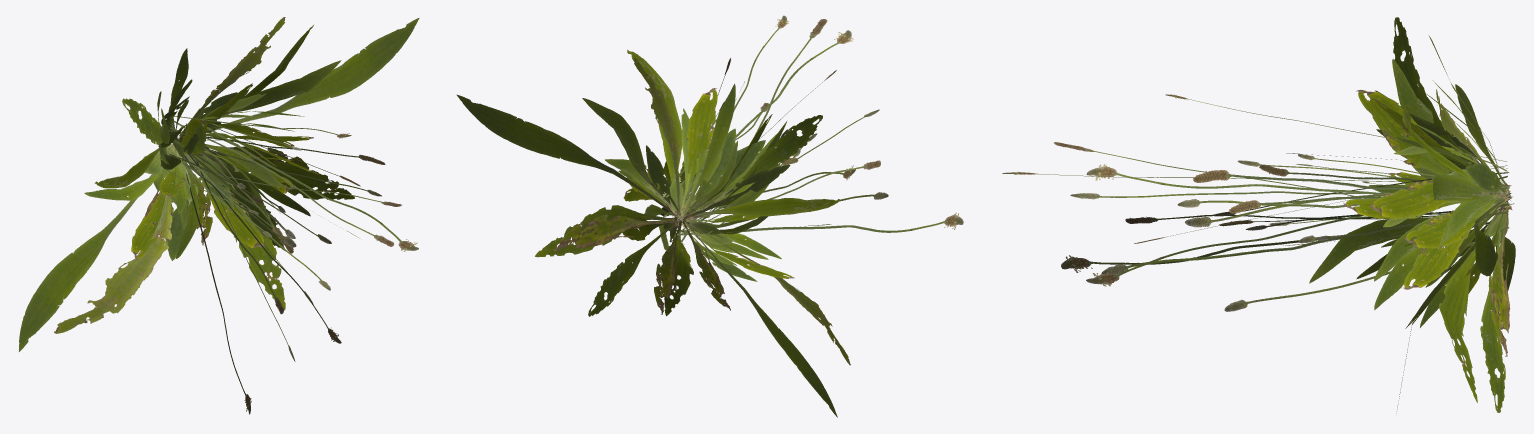
The model's file is Weed_04_Var2_LOD2.fbx.
3 renders of one model, left to right at view 1: azimuth 30°, elevation 25°; view 2: azimuth 150°, elevation 25°; view 3: azimuth 270°, elevation 25°, orthographic. The views are drawn at different scales.
Parts seen in each view (by area): view 1: Var2_LOD2; view 2: Var2_LOD2; view 3: Var2_LOD2.
Boxes of the visible parts, x1=… form: Var2_LOD2: x1=19, y1=17, x2=419, y2=414; Var2_LOD2: x1=456, y1=15, x2=963, y2=417; Var2_LOD2: x1=1002, y1=17, x2=1515, y2=413.
Bounding box in the file's own units: 61 × 43.52 × 55.99.
